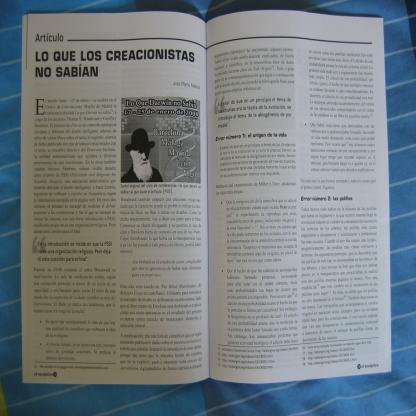book: (21, 11, 391, 390)
